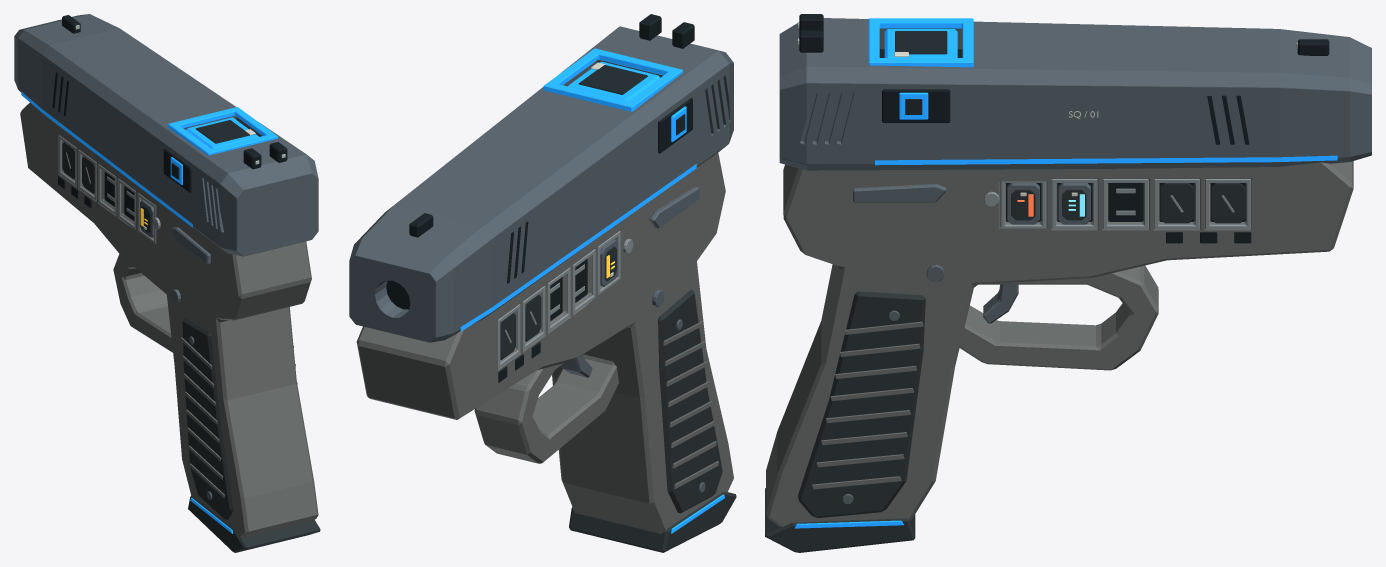
File: SquareHandgun.glb
3 views of the same model, side by side, from view 1: azimuth 30°, elevation 25°; view 2: azimuth 150°, elevation 25°; view 3: azimuth 270°, elevation 25° (orthographic). The views are drawn at different scales.
Parts seen in each view (by area): view 1: Frame | continuous receiver and swept grip, Slide | long tapered chamfered shell, Grip | contoured panel -1, Frame | open shaped trigger guard, Grip | fitted heel plate, Dock | fitted rim, Accent | slide seam -1, SquareInsert | dark square face, SquareInsert | removable ceramic cartridge, Controls | slim slide release -1, Dock | side recess -1, Modulator 08 | locked cover (+2 smaller); view 2: Slide | long tapered chamfered shell, Frame | continuous receiver and swept grip, Frame | open shaped trigger guard, Grip | contoured panel -1, Grip | fitted heel plate, Dock | fitted rim, Accent | slide seam -1, SquareInsert | dark square face, SquareInsert | removable ceramic cartridge, Controls | slim slide release -1, Dock | side recess -1, Modulator 08 | locked cover (+8 smaller); view 3: Slide | long tapered chamfered shell, Frame | continuous receiver and swept grip, Grip | contoured panel 1, Frame | open shaped trigger guard, Grip | fitted heel plate, Dock | fitted rim, Accent | slide seam 1, Dock | side recess 1, Controls | slim slide release 1, Modulator 09 | locked cover, Modulator 07 | locked cover, Modulator 05 | socket interior (+8 smaller).
Part boxes in pixels (<box>): Frame | continuous receiver and swept grip: <box>20,103,318,537</box>; Slide | long tapered chamfered shell: <box>14,14,318,256</box>; Grip | contoured panel -1: <box>182,318,233,519</box>; Frame | open shaped trigger guard: <box>113,254,172,352</box>; Grip | fitted heel plate: <box>188,495,320,552</box>; Dock | fitted rim: <box>168,107,277,155</box>; Accent | slide seam -1: <box>21,91,192,227</box>; SquareInsert | dark square face: <box>196,120,249,143</box>; SquareInsert | removable ceramic cartridge: <box>186,117,258,148</box>; Controls | slim slide release -1: <box>171,227,210,264</box>; Dock | side recess -1: <box>163,149,191,192</box>; Modulator 08 | locked cover: <box>82,156,94,193</box>; Slide | long tapered chamfered shell: <box>349,26,733,342</box>; Frame | continuous receiver and swept grip: <box>356,153,733,533</box>; Frame | open shaped trigger guard: <box>474,354,618,463</box>; Grip | contoured panel -1: <box>658,289,722,513</box>; Grip | fitted heel plate: <box>569,492,736,552</box>; Dock | fitted rim: <box>543,48,682,111</box>; Accent | slide seam -1: <box>460,164,696,331</box>; SquareInsert | dark square face: <box>578,65,647,94</box>; SquareInsert | removable ceramic cartridge: <box>567,61,659,101</box>; Controls | slim slide release -1: <box>649,186,699,228</box>; Dock | side recess -1: <box>658,97,692,153</box>; Modulator 08 | locked cover: <box>525,294,541,341</box>; Slide | long tapered chamfered shell: <box>779,18,1371,170</box>; Frame | continuous receiver and swept grip: <box>766,161,1353,526</box>; Grip | contoured panel 1: <box>798,291,925,518</box>; Frame | open shaped trigger guard: <box>959,265,1158,370</box>; Grip | fitted heel plate: <box>765,488,915,552</box>; Dock | fitted rim: <box>868,18,973,67</box>; Accent | slide seam 1: <box>875,155,1337,165</box>; Dock | side recess 1: <box>882,89,950,122</box>; Controls | slim slide release 1: <box>853,183,946,202</box>; Modulator 09 | locked cover: <box>1211,183,1245,223</box>; Modulator 07 | locked cover: <box>1160,183,1193,223</box>; Modulator 05 | socket interior: <box>1108,183,1143,221</box>.
Bounding box in the file's own units: 0.0624 × 0.2289 × 0.249.
